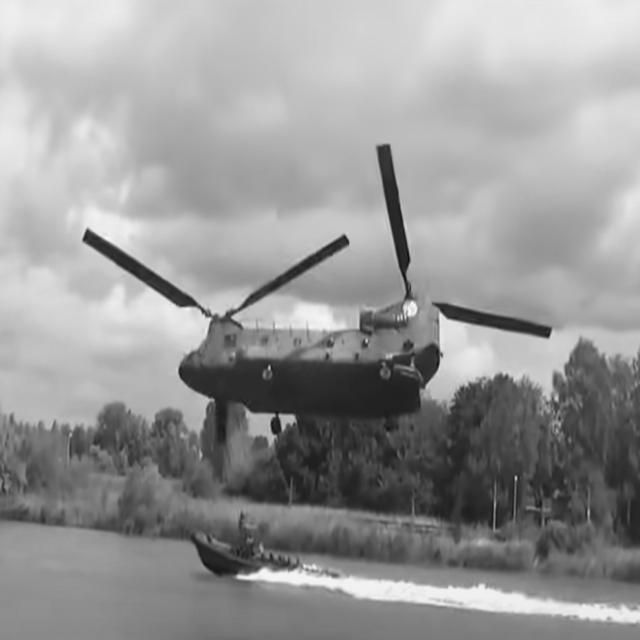Helicopter: (84, 145, 551, 464)
